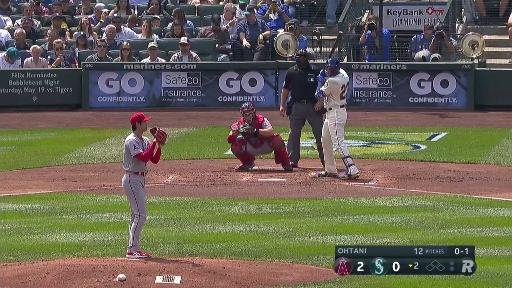pitcher: (123, 113, 166, 258)
